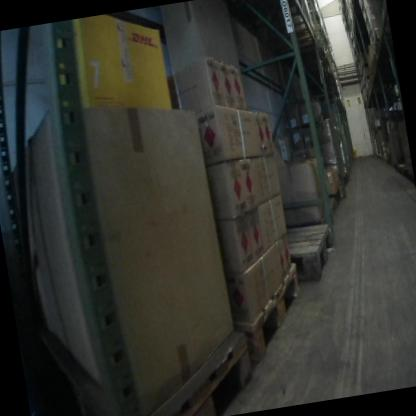pallet: (75, 316, 261, 416), (206, 256, 320, 388), (262, 218, 339, 287), (275, 9, 316, 49), (294, 50, 333, 78), (250, 0, 309, 16), (316, 186, 347, 215), (319, 195, 340, 227), (369, 44, 395, 66), (367, 63, 394, 81), (371, 28, 391, 52), (368, 77, 393, 93), (397, 162, 413, 187), (370, 147, 386, 169), (347, 0, 367, 10), (382, 151, 395, 165), (391, 156, 398, 172)
